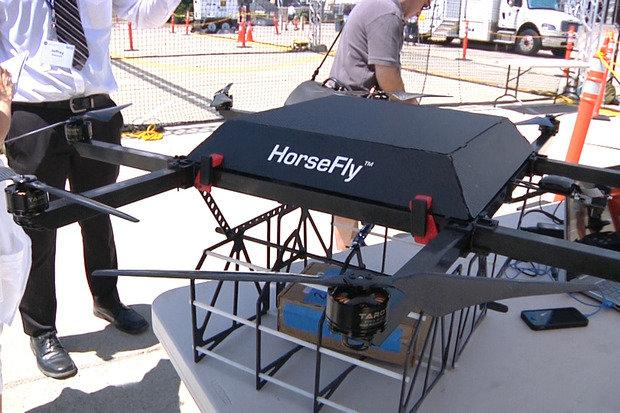drone: (5, 40, 620, 340)
